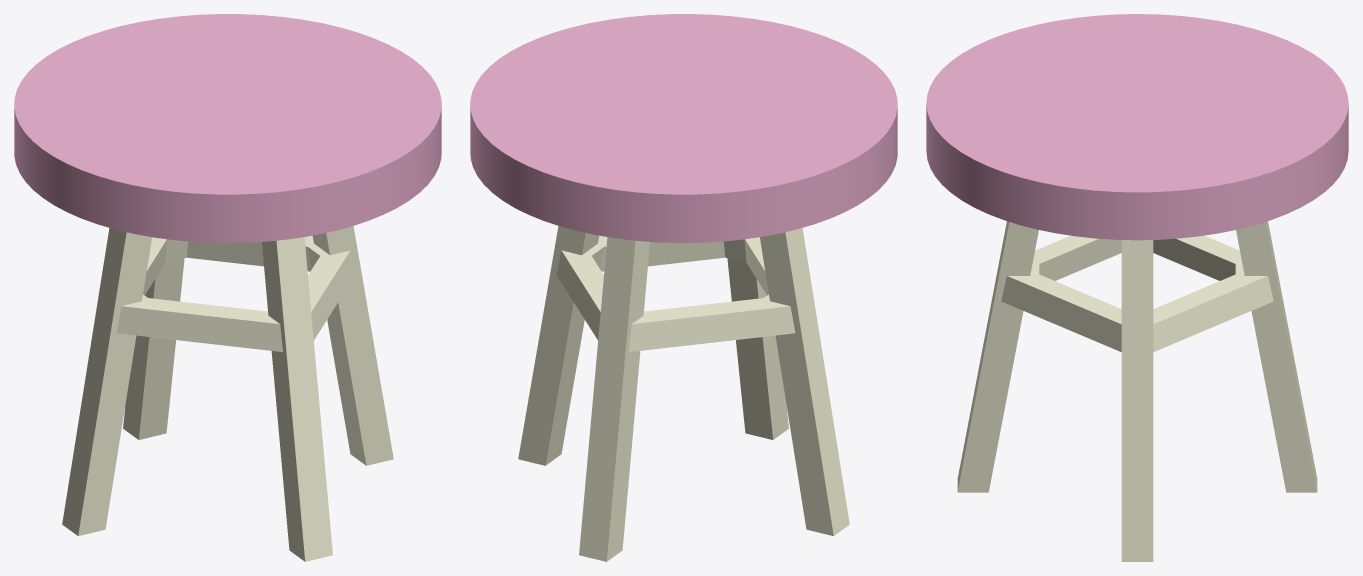
The model's file is chair1_pink.glb.
3 views of the same model, side by side, from view 1: azimuth 30°, elevation 25°; view 2: azimuth 150°, elevation 25°; view 3: azimuth 270°, elevation 25° (orthographic).
Visible parts, largest first — view 1: Cylinder002; view 2: Cylinder002; view 3: Cylinder002.
Boxes of the visible parts, x1,y1,x2,y2 form: Cylinder002: (14,14,441,561); Cylinder002: (470,14,897,561); Cylinder002: (926,14,1348,561).
Bounding box in the file's own units: 0.08 × 0.08 × 0.08.
Materials: 1 (1 with a texture image).
